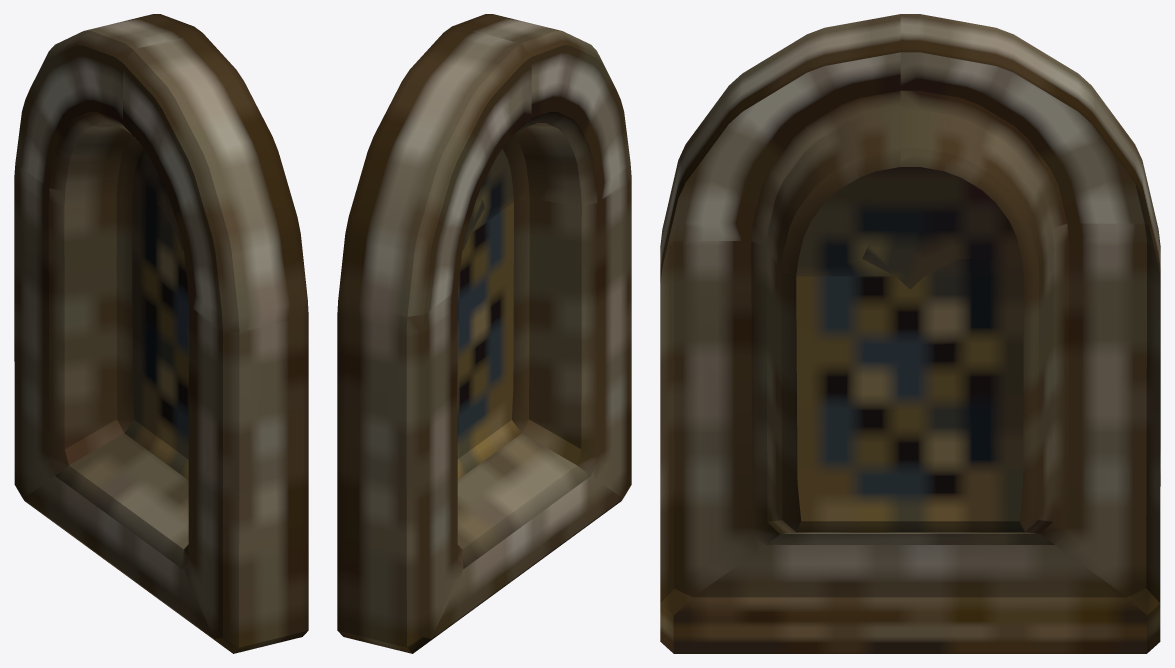
Rendered from EnvBdgMD_Sea_A_Outdoor_Window_B.FBX.
The picture shows the model from 3 angles, left to right: view 1: azimuth 30°, elevation 25°; view 2: azimuth 150°, elevation 25°; view 3: azimuth 270°, elevation 25°; orthographic projection. The views are drawn at different scales.
Visible parts, largest first — view 1: EnvBdgMD_Sea_A_Outdoor_Window_B; view 2: EnvBdgMD_Sea_A_Outdoor_Window_B; view 3: EnvBdgMD_Sea_A_Outdoor_Window_B.
Part boxes in pixels (left/top/right/bottom): EnvBdgMD_Sea_A_Outdoor_Window_B: left=14, top=14, right=308, bottom=653; EnvBdgMD_Sea_A_Outdoor_Window_B: left=337, top=14, right=631, bottom=653; EnvBdgMD_Sea_A_Outdoor_Window_B: left=660, top=14, right=1160, bottom=653.
Size of the model in its own units: 12.5 by 79.66 by 60.03.
1 material, 1 textured.
